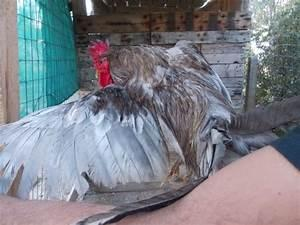hen: (0, 36, 299, 206)
